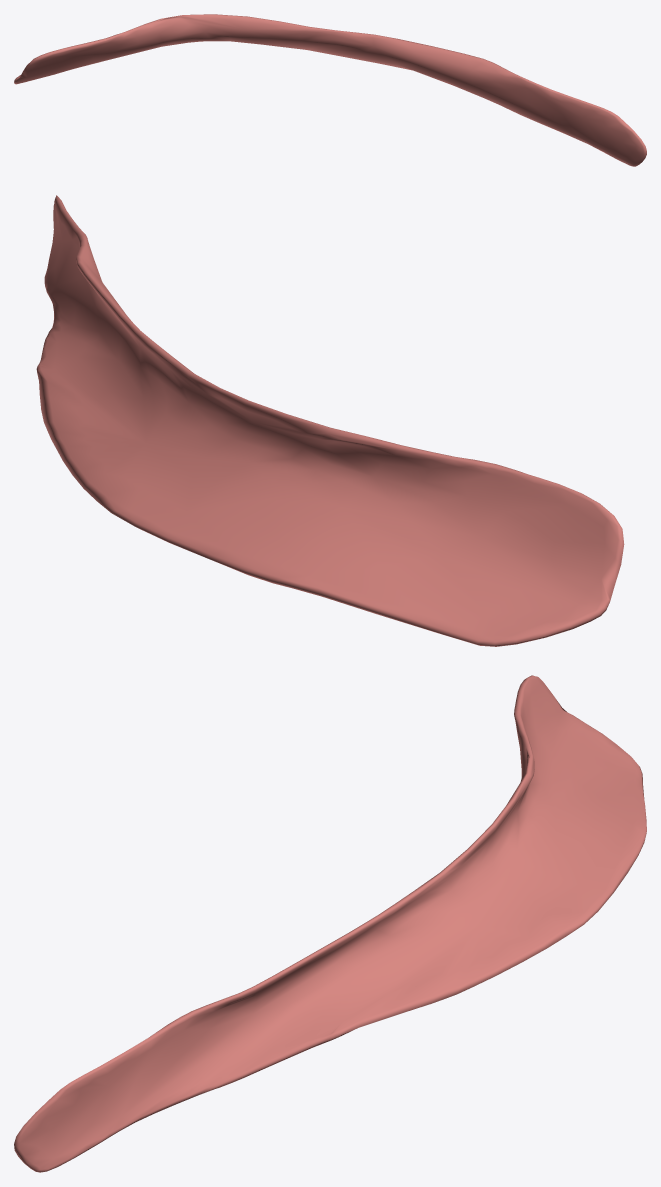
3 renders of one model, top to bottom at view 1: azimuth 30°, elevation 25°; view 2: azimuth 150°, elevation 25°; view 3: azimuth 270°, elevation 25°, orthographic. The views are drawn at different scales.
Parts seen in each view (by area): view 1: ZA_14a41e1c002ca75a; view 2: ZA_14a41e1c002ca75a; view 3: ZA_14a41e1c002ca75a.
Part boxes in pixels (x1,y1,x2,y2): ZA_14a41e1c002ca75a: [14, 14, 646, 166]; ZA_14a41e1c002ca75a: [36, 195, 624, 646]; ZA_14a41e1c002ca75a: [14, 675, 646, 1172].
Size of the model in its own units: 0.0552 by 0.0129 by 0.0425.
